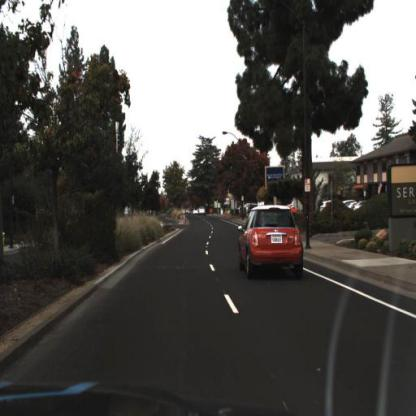car: (237, 205, 308, 279), (199, 206, 207, 215)
